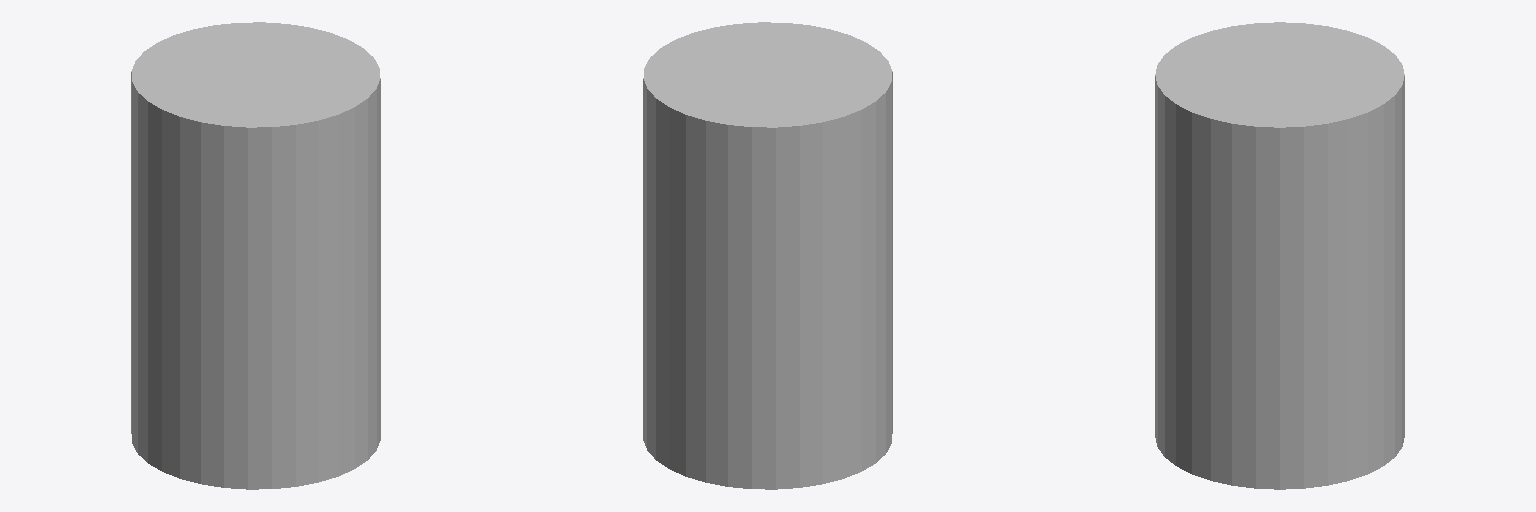
The model's file is resource_2.obj.
The picture shows the model from 3 angles: view 1: azimuth 30°, elevation 25°; view 2: azimuth 150°, elevation 25°; view 3: azimuth 270°, elevation 25°; orthographic projection.
Parts seen in each view (by area): view 1: Cylinder.004; view 2: Cylinder.004; view 3: Cylinder.004.
Boxes of the visible parts, x1=… form: Cylinder.004: x1=131, y1=22, x2=380, y2=489; Cylinder.004: x1=643, y1=22, x2=892, y2=489; Cylinder.004: x1=1155, y1=22, x2=1404, y2=489.
Bounding box in the file's own units: 1 × 1.6 × 1.